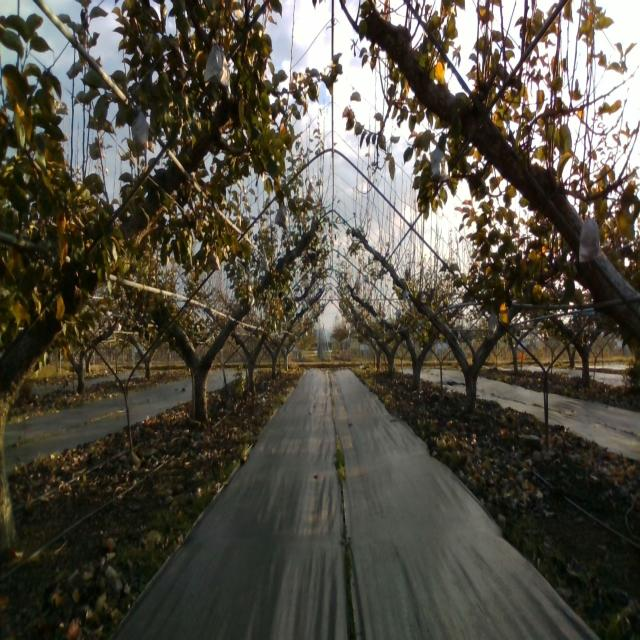pearbags: (204, 33, 230, 89), (578, 217, 603, 263), (131, 105, 149, 157), (430, 144, 450, 181), (274, 200, 289, 233), (488, 307, 498, 336), (207, 249, 220, 271)
